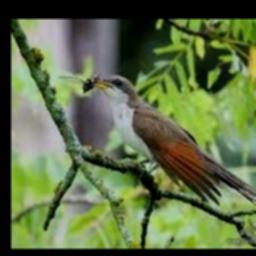Cuckoo: (93, 75, 256, 209)
